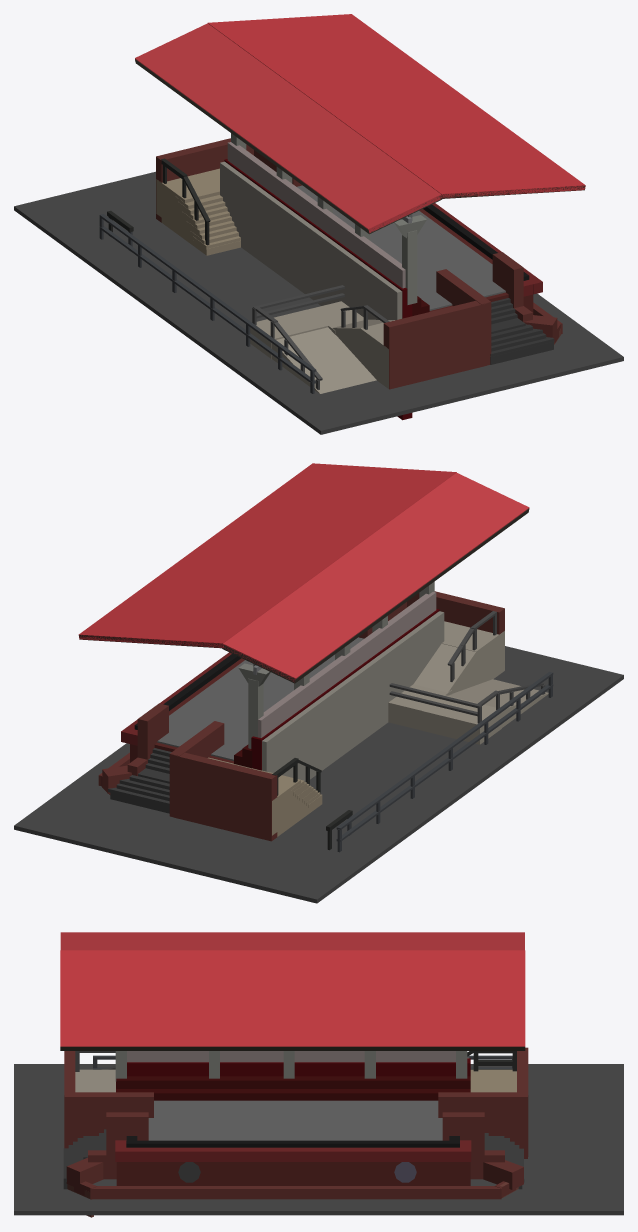
The picture shows the model from 3 angles, top to bottom: view 1: azimuth 30°, elevation 25°; view 2: azimuth 150°, elevation 25°; view 3: azimuth 270°, elevation 25°; orthographic projection.
Parts seen in each view (by area): view 1: Cube, Cube.113, Cube.114, Cube.068, Cube.002, Cube.007, Cube.016, Cube.033, Cube.089, Cube.078, Cube.011, Cube.059 (+8 smaller); view 2: Cube, Cube.113, Cube.114, Cube.068, Cube.002, Cube.007, Cube.016, Cube.089, Cube.078, Cube.044, Cube.059, Cube.033 (+9 smaller); view 3: Cube.113, Cube, Cube.068, Cube.016, Cube.114, Cube.088, Cube.001, Cube.117, Cube.020, Cube.089, Cube.120, Cube.121 (+7 smaller).
Boxes of the visible parts, <box> form: Cube: <box>14,171,623,434</box>; Cube.113: <box>208,14,585,198</box>; Cube.114: <box>135,23,441,233</box>; Cube.068: <box>156,138,562,389</box>; Cube.002: <box>220,161,402,320</box>; Cube.007: <box>250,309,394,393</box>; Cube.016: <box>297,185,505,310</box>; Cube.033: <box>156,168,240,255</box>; Cube.089: <box>227,142,405,288</box>; Cube.078: <box>99,214,316,393</box>; Cube.011: <box>490,298,554,364</box>; Cube.059: <box>252,285,389,389</box>; Cube: <box>14,646,623,903</box>; Cube.113: <box>78,463,456,647</box>; Cube.114: <box>223,472,529,682</box>; Cube.068: <box>98,591,504,841</box>; Cube.002: <box>262,611,444,781</box>; Cube.007: <box>414,621,548,744</box>; Cube.016: <box>157,637,363,760</box>; Cube.089: <box>258,591,436,737</box>; Cube.078: <box>336,671,553,852</box>; Cube.044: <box>108,748,171,813</box>; Cube.059: <box>389,611,545,723</box>; Cube.033: <box>208,757,322,836</box>; Cube.113: <box>60,950,525,1046</box>; Cube: <box>14,1064,623,1215</box>; Cube.068: <box>64,1047,528,1199</box>; Cube.016: <box>148,1100,442,1140</box>; Cube.114: <box>60,932,524,950</box>; Cube.088: <box>116,1076,470,1100</box>; Cube.001: <box>116,1162,470,1185</box>; Cube.117: <box>115,1140,471,1161</box>; Cube.020: <box>116,1058,470,1087</box>; Cube.089: <box>127,1051,455,1062</box>; Cube.120: <box>126,1136,459,1147</box>; Cube.121: <box>60,1046,525,1050</box>.
Bounding box in the file's own units: 6172 × 4751 × 10823.
